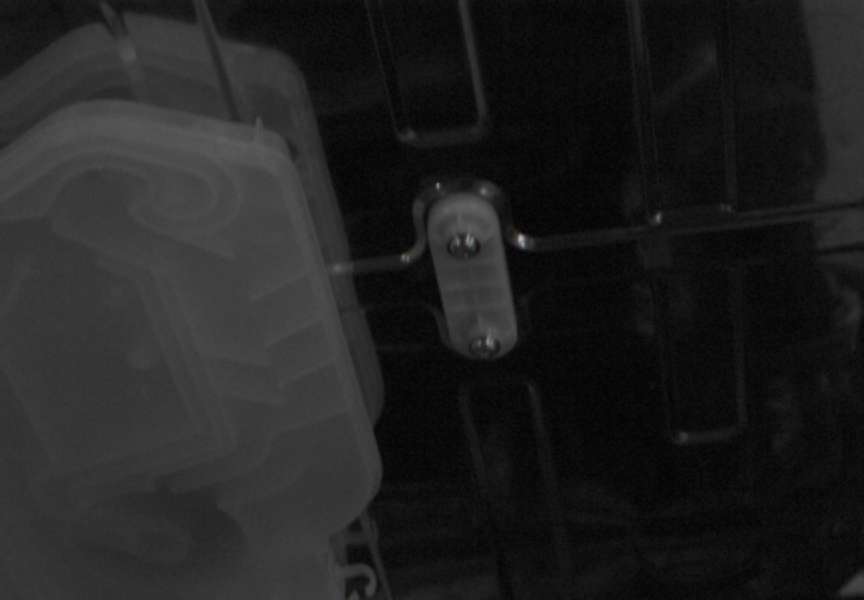screw: (447, 233, 481, 259), (469, 334, 501, 360)
